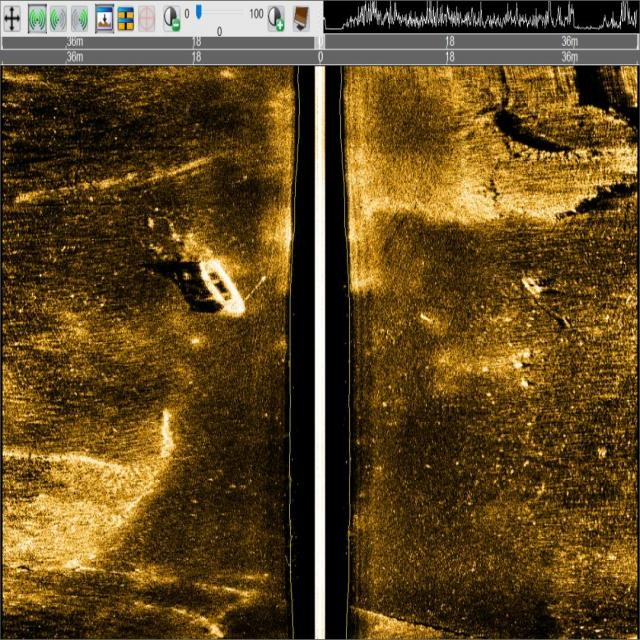ship: (197, 252, 246, 319)
